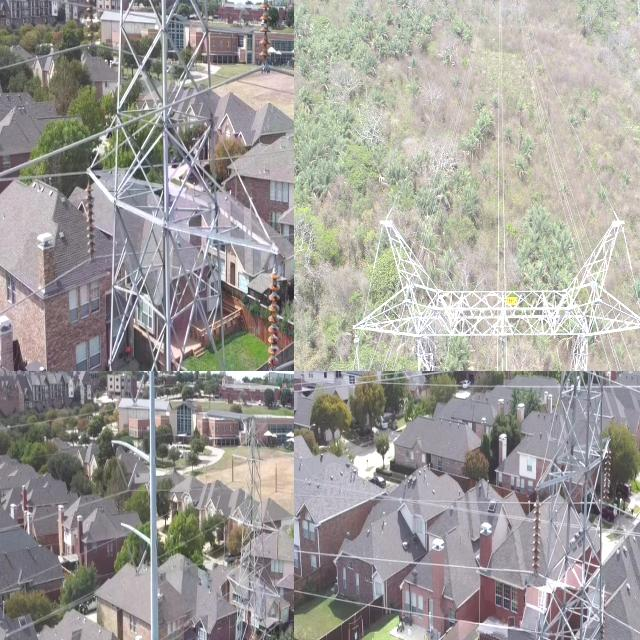杆塔: (75, 0, 294, 371), (353, 196, 640, 371), (514, 371, 614, 640), (224, 418, 282, 640)
正常绝缘子: (259, 244, 287, 371), (252, 0, 277, 82), (598, 448, 618, 532), (81, 0, 103, 59), (84, 175, 98, 267), (530, 496, 543, 582), (130, 371, 148, 412), (119, 371, 137, 409), (124, 458, 141, 497), (124, 539, 140, 580), (115, 455, 131, 495), (351, 333, 367, 371), (133, 545, 150, 579), (272, 456, 278, 500), (499, 335, 506, 371), (229, 454, 236, 486), (275, 526, 280, 566), (276, 593, 282, 626), (228, 518, 232, 546)
